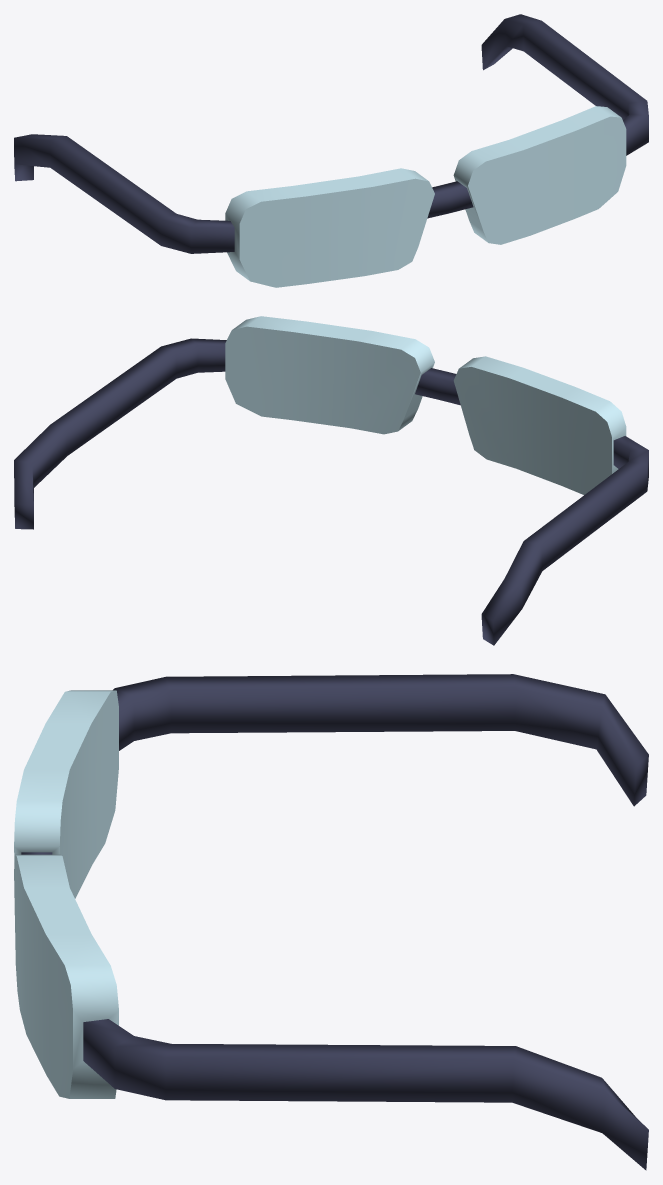
Rendered from Glasses_Bright.fbx.
The picture shows the model from 3 angles, top to bottom: view 1: azimuth 30°, elevation 25°; view 2: azimuth 150°, elevation 25°; view 3: azimuth 270°, elevation 25°; orthographic projection. The views are drawn at different scales.
Visible parts, largest first — view 1: Glasses_Bright; view 2: Glasses_Bright; view 3: Glasses_Bright.
Part boxes in pixels (x1=…): Glasses_Bright: x1=14, y1=14, x2=648, y2=287; Glasses_Bright: x1=14, y1=316, x2=648, y2=645; Glasses_Bright: x1=14, y1=674, x2=648, y2=1170.
Size of the model in its own units: 89.59 by 16.2 by 60.37.
